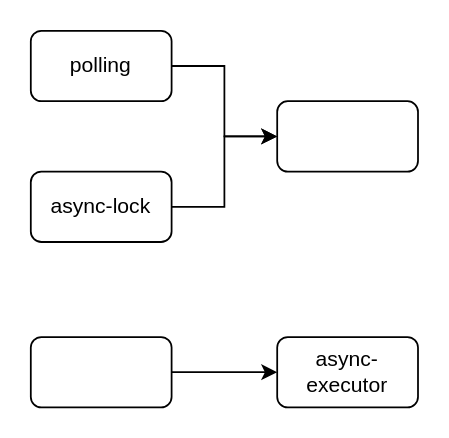
This 449x438 diagram has some shape labels left out. The centre of each missing label's shape, as x and y in pixels:
"async-io" belongs at (x=346, y=135).
"async-task" belongs at (x=100, y=371).
